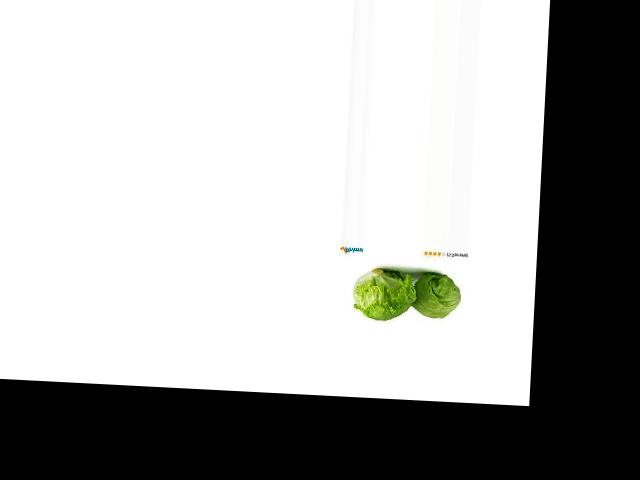lettuce: (397, 260, 464, 320)
